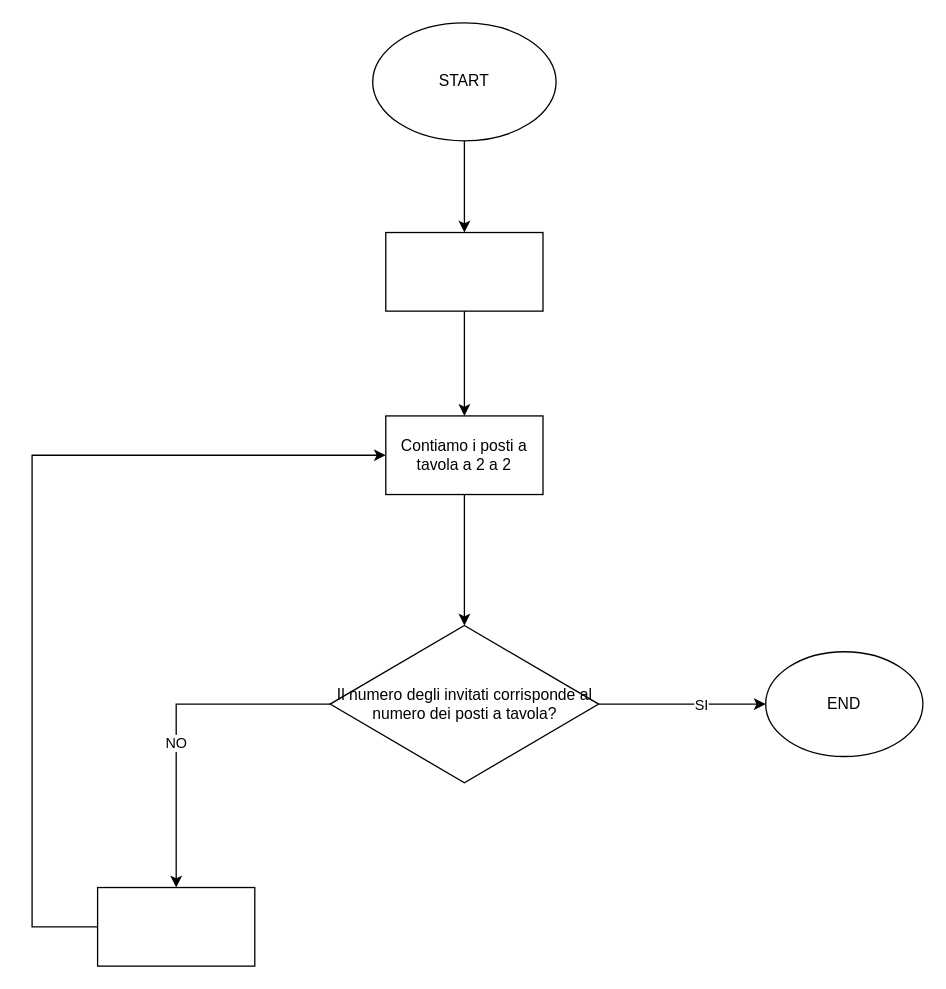
Some shapes in this 946 by 989 pixel diagram are drawn without their labels. The shapes that lost their labels are listed below. From the top down, each one's centre as x and y in pixels, then its label:
At point (463, 271): "Contiamo gli invitati".
At point (175, 926): "Aggiungo 1 posto a tavola".
